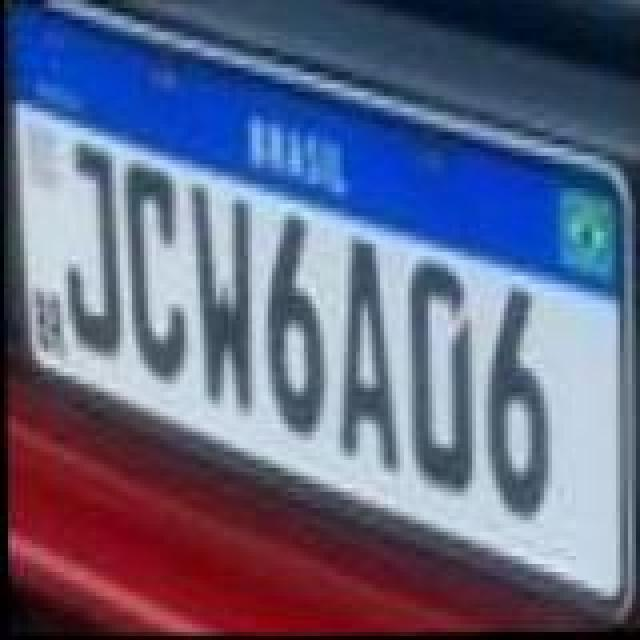6: (476, 286, 552, 526), (256, 210, 328, 438)
A: (328, 238, 400, 474)
C: (120, 156, 192, 388)
D: (400, 258, 476, 494)
J: (58, 140, 126, 360)
W: (184, 182, 256, 418)
